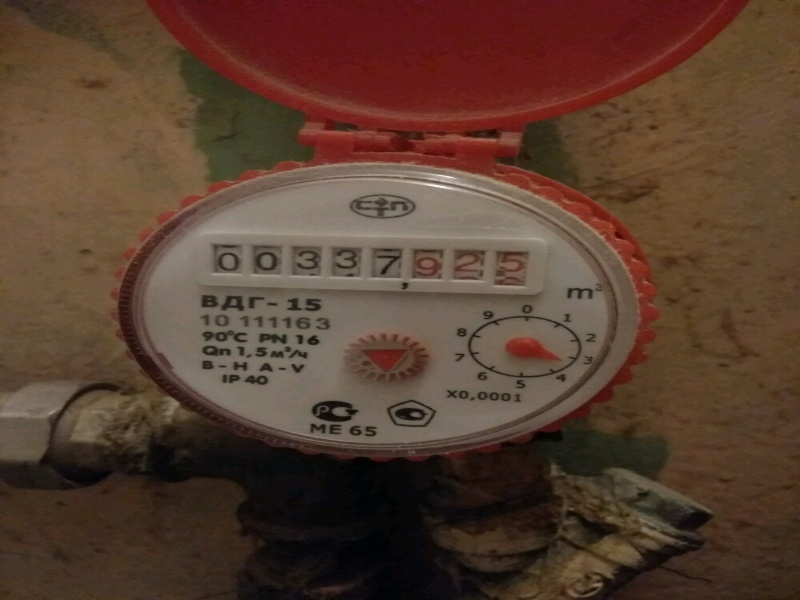meter: (205, 228, 552, 290)
